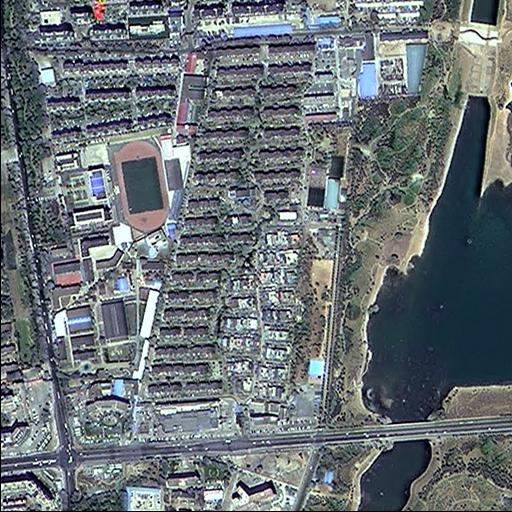school: (24, 130, 193, 311)
